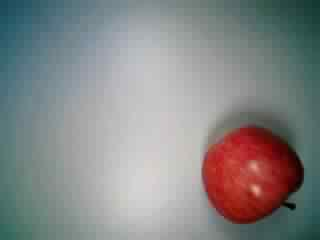apple: (201, 123, 304, 227)
